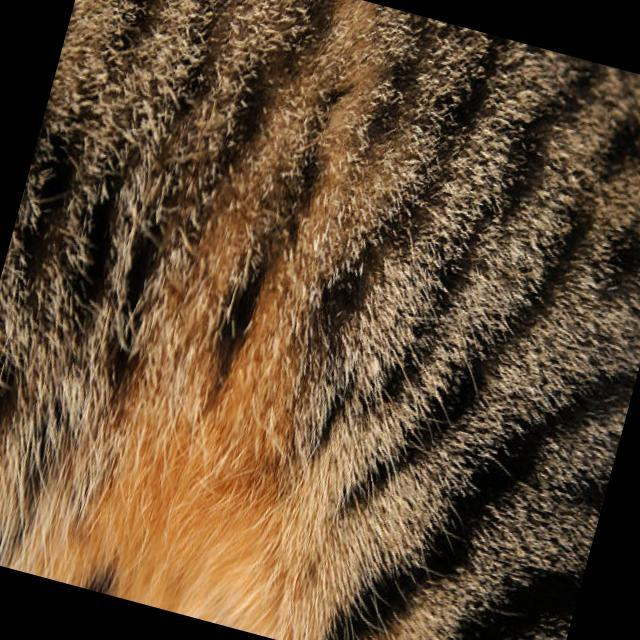Healthy skin: (101, 0, 430, 469), (347, 23, 640, 452), (0, 0, 214, 366), (282, 405, 595, 640), (0, 394, 297, 614)
